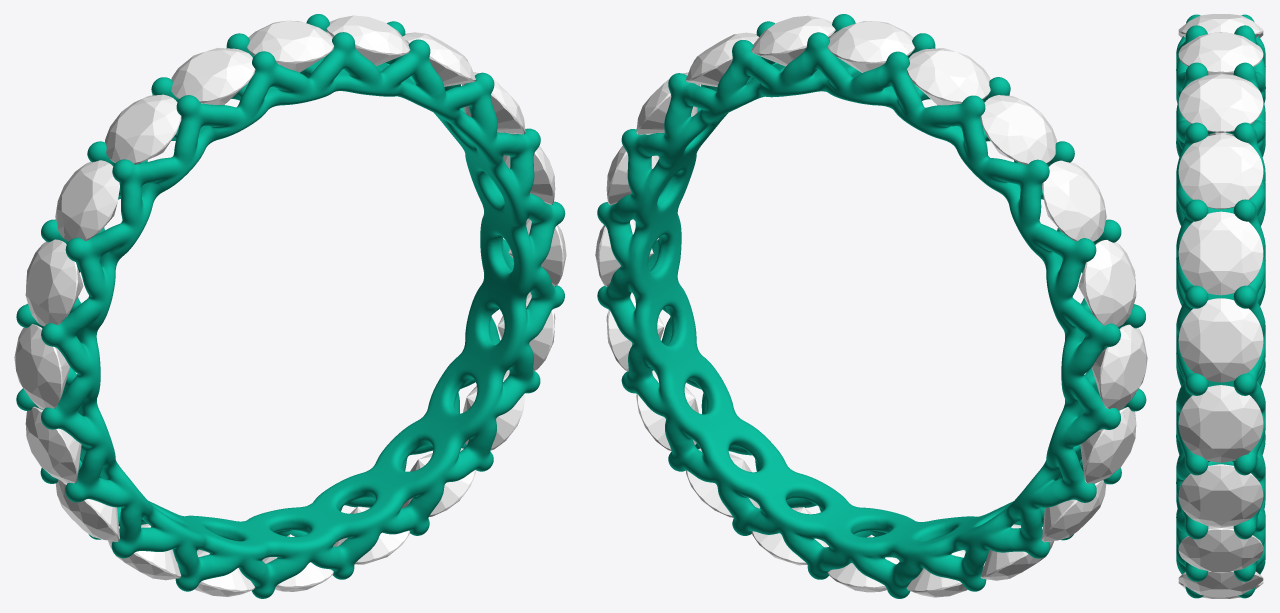
File: BE2D1127LC_RENDER.glb
3 views of the same model, side by side, from view 1: azimuth 30°, elevation 25°; view 2: azimuth 150°, elevation 25°; view 3: azimuth 270°, elevation 25° (orthographic). The views are drawn at different scales.
Visible parts, largest first — view 1: Metal03, Diamond_Round_Gem_BD.016, Diamond_Round_Gem_BD.017, Diamond_Round_Gem_BD.015, Diamond_Round_Gem_BD.018, Diamond_Round_Gem_BD.014, Diamond_Round_Gem_BD.019, Diamond_Round_Gem_BD.013, Diamond_Round_Gem_BD, Diamond_Round_Gem_BD.012, Diamond_Round_Gem_BD.001, Diamond_Round_Gem_BD.011 (+9 smaller); view 2: Metal03, Diamond_Round_Gem_BD.016, Diamond_Round_Gem_BD.017, Diamond_Round_Gem_BD.015, Diamond_Round_Gem_BD.018, Diamond_Round_Gem_BD.014, Diamond_Round_Gem_BD.019, Diamond_Round_Gem_BD.013, Diamond_Round_Gem_BD, Diamond_Round_Gem_BD.012, Diamond_Round_Gem_BD.001, Diamond_Round_Gem_BD.011 (+9 smaller); view 3: Metal03, Diamond_Round_Gem_BD.003, Diamond_Round_Gem_BD.002, Diamond_Round_Gem_BD.004, Diamond_Round_Gem_BD.001, Diamond_Round_Gem_BD.005, Diamond_Round_Gem_BD, Diamond_Round_Gem_BD.006, Diamond_Round_Gem_BD.019, Diamond_Round_Gem_BD.007, Diamond_Round_Gem_BD.018.
Boxes of the visible parts, <box> form: Metal03: <box>16,14,565,598</box>; Diamond_Round_Gem_BD.016: <box>55,160,119,241</box>; Diamond_Round_Gem_BD.017: <box>105,94,181,164</box>; Diamond_Round_Gem_BD.015: <box>25,239,83,326</box>; Diamond_Round_Gem_BD.018: <box>171,48,255,104</box>; Diamond_Round_Gem_BD.014: <box>14,324,70,409</box>; Diamond_Round_Gem_BD.019: <box>247,20,334,72</box>; Diamond_Round_Gem_BD.013: <box>25,406,81,483</box>; Diamond_Round_Gem_BD: <box>326,15,410,65</box>; Diamond_Round_Gem_BD.012: <box>55,479,119,541</box>; Diamond_Round_Gem_BD.001: <box>402,32,475,86</box>; Diamond_Round_Gem_BD.011: <box>108,524,181,580</box>; Metal03: <box>597,14,1146,598</box>; Diamond_Round_Gem_BD.016: <box>1042,160,1106,241</box>; Diamond_Round_Gem_BD.017: <box>980,95,1056,164</box>; Diamond_Round_Gem_BD.015: <box>1078,240,1136,326</box>; Diamond_Round_Gem_BD.018: <box>906,48,990,105</box>; Diamond_Round_Gem_BD.014: <box>1091,324,1147,410</box>; Diamond_Round_Gem_BD.019: <box>827,21,914,72</box>; Diamond_Round_Gem_BD.013: <box>1080,407,1136,483</box>; Diamond_Round_Gem_BD: <box>751,15,835,66</box>; Diamond_Round_Gem_BD.012: <box>1042,480,1106,542</box>; Diamond_Round_Gem_BD.001: <box>686,32,758,86</box>; Diamond_Round_Gem_BD.011: <box>980,524,1053,580</box>; Metal03: <box>1176,14,1265,598</box>; Diamond_Round_Gem_BD.003: <box>1178,298,1263,382</box>; Diamond_Round_Gem_BD.002: <box>1178,211,1263,295</box>; Diamond_Round_Gem_BD.004: <box>1178,385,1263,462</box>; Diamond_Round_Gem_BD.001: <box>1178,134,1263,209</box>; Diamond_Round_Gem_BD.005: <box>1178,464,1263,527</box>; Diamond_Round_Gem_BD: <box>1178,73,1263,132</box>; Diamond_Round_Gem_BD.006: <box>1178,526,1263,573</box>; Diamond_Round_Gem_BD.019: <box>1178,32,1263,75</box>; Diamond_Round_Gem_BD.007: <box>1178,571,1263,597</box>; Diamond_Round_Gem_BD.018: <box>1178,14,1263,37</box>.
Bounding box in the file's own units: 20.71 × 20.71 × 3.18.
